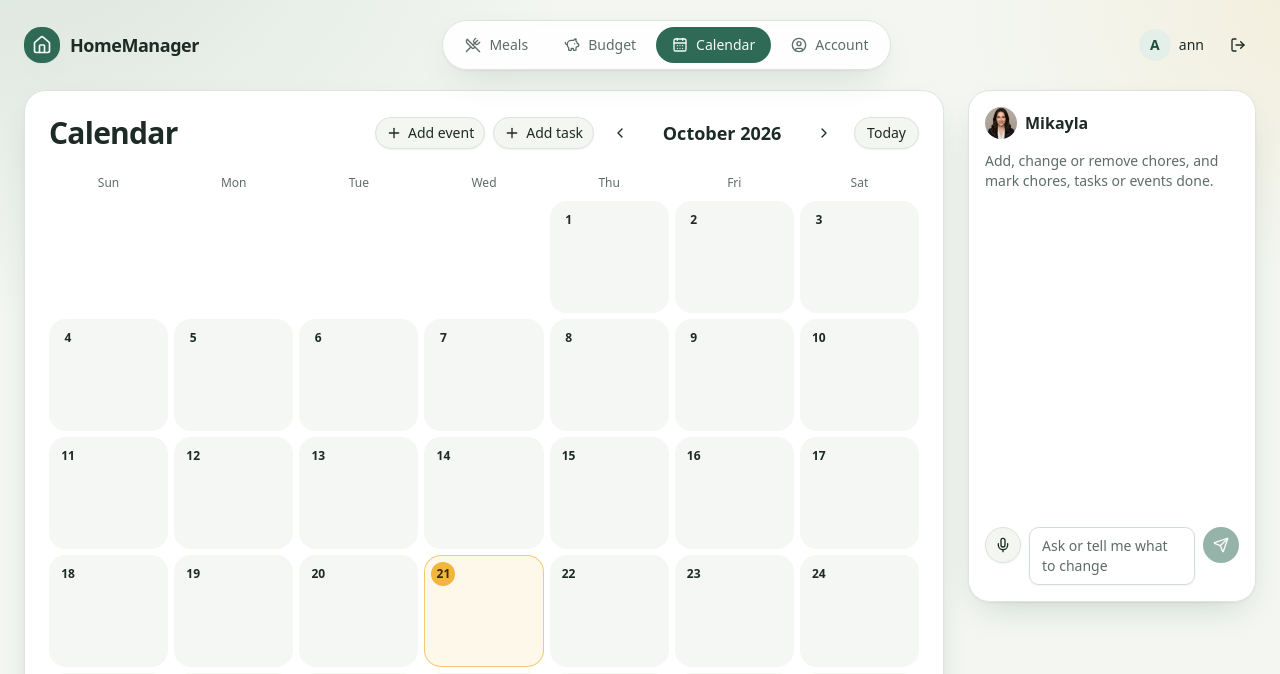
Test: App routes and shell (signed in) › page month navigation changes the displayed month
The width and height of the screenshot is (1280, 674).
Click the button named "Next month".
click(824, 133)  # box [806,115,842,151]
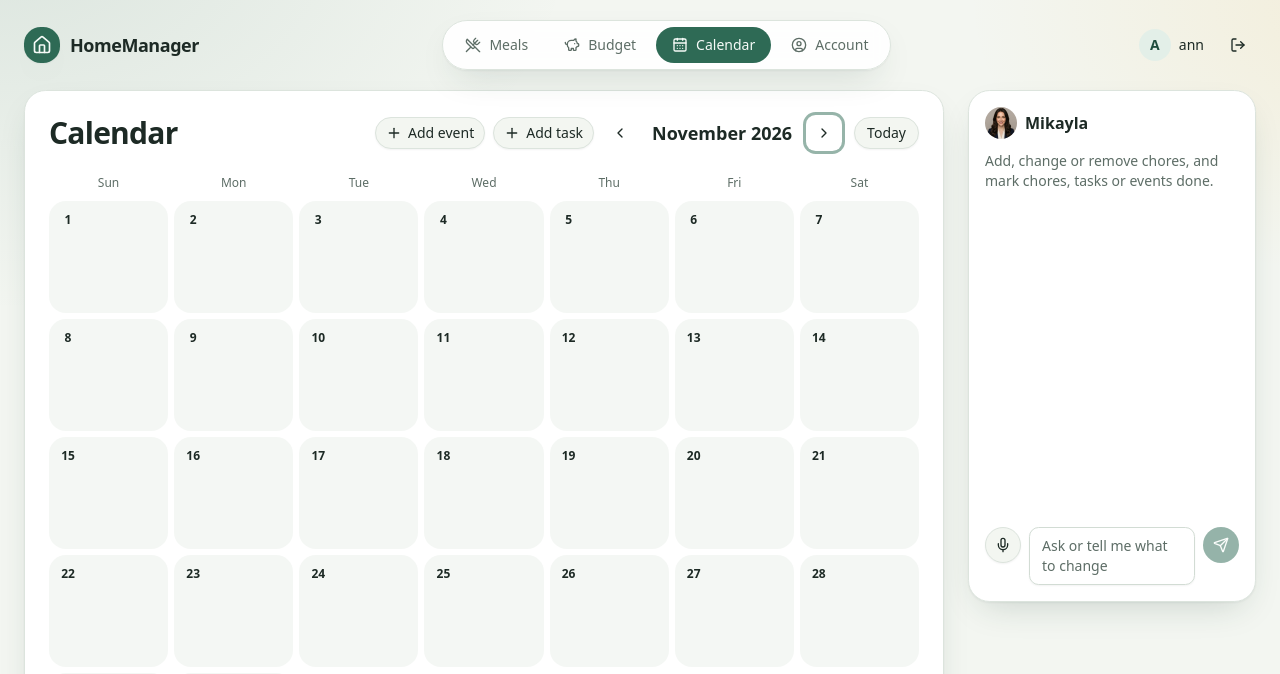
Result: the heading "October 2026" no longer shows "October 2026"
